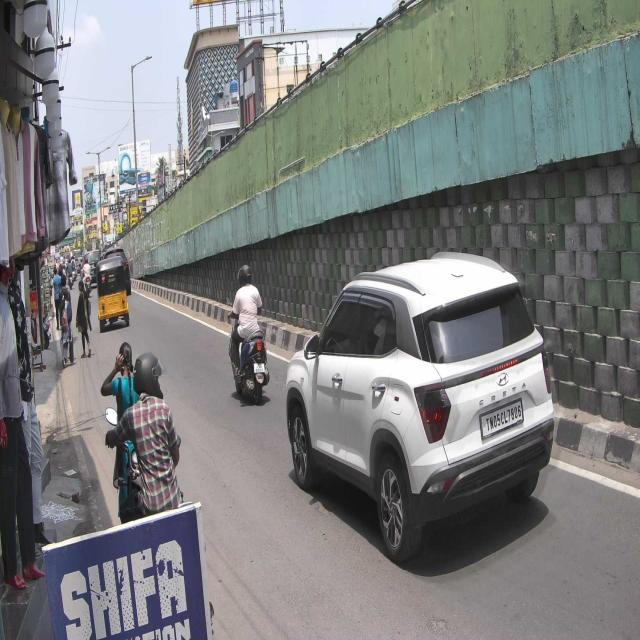single_rider: (226, 262, 270, 406)
